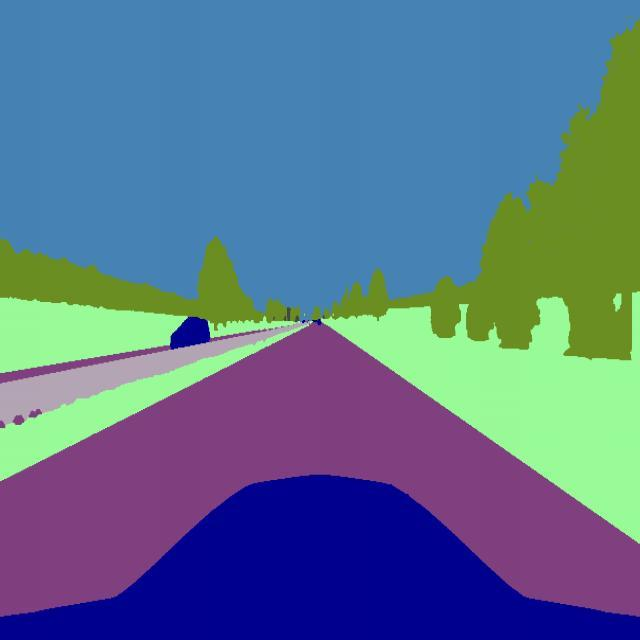safe: (169, 312, 212, 352)
